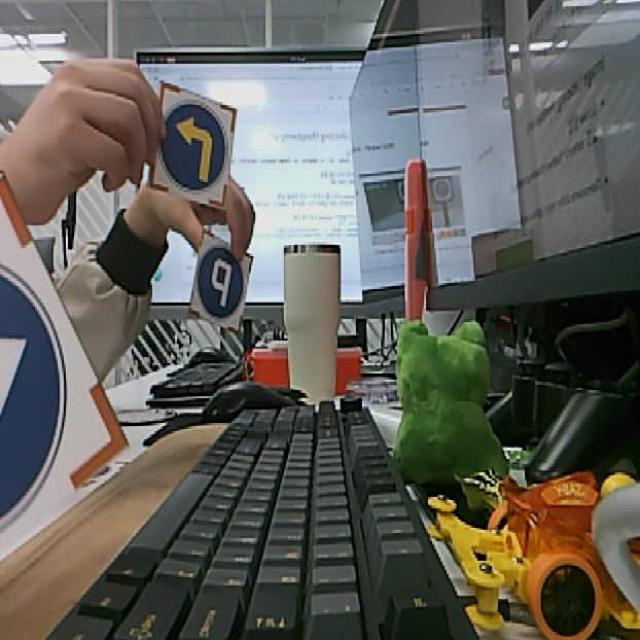parking: (188, 232, 254, 329)
turn: (146, 82, 239, 210)
